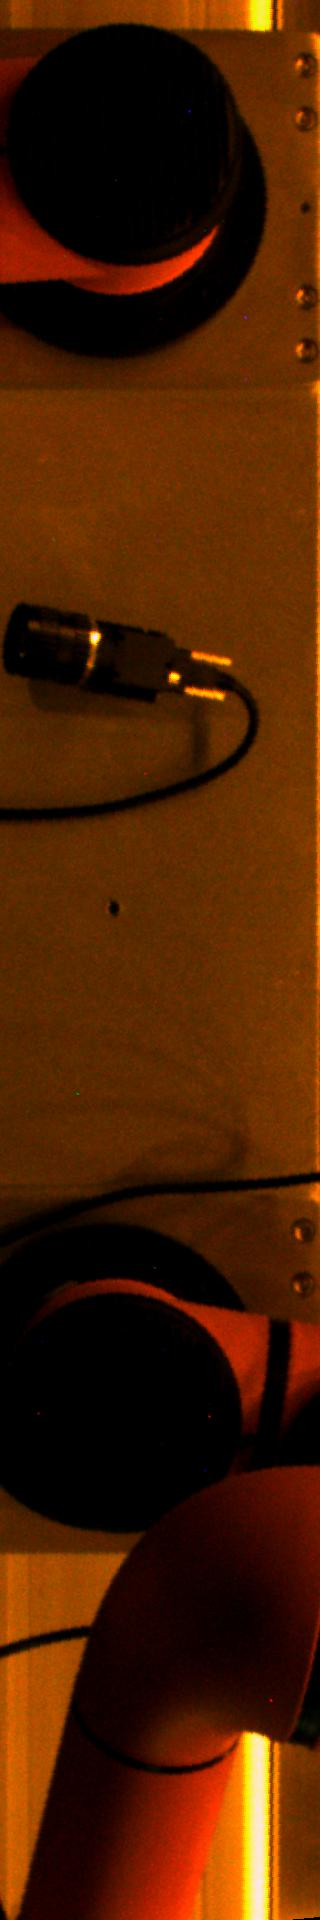keyPoint_2: (98, 893, 128, 923)
